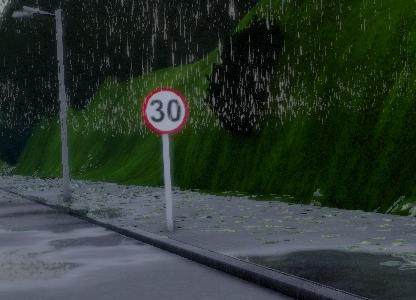Speed_30: (140, 86, 191, 136)
